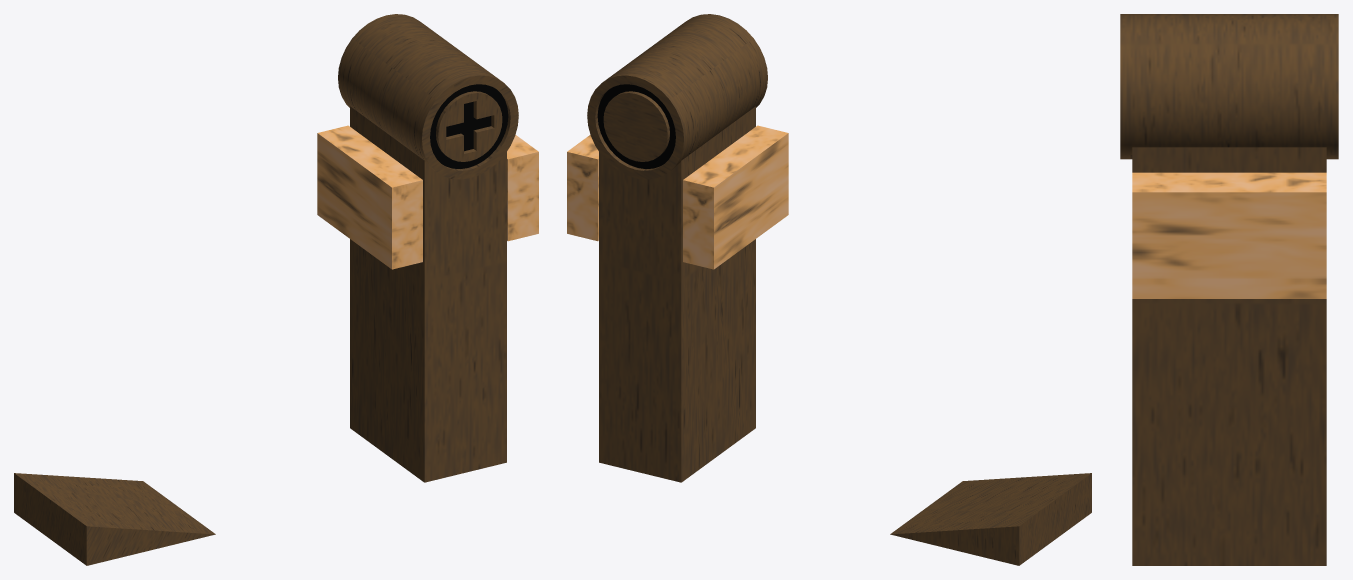
File: level4.fbx
3 renders of one model, left to right at view 1: azimuth 30°, elevation 25°; view 2: azimuth 150°, elevation 25°; view 3: azimuth 270°, elevation 25°, orthographic. The views are drawn at different scales.
Parts seen in each view (by area): view 1: LiftBlock, Pullable, Cube.003, Cube.001, Cube; view 2: LiftBlock, Pullable, Cube.003, Cube.001, Cube; view 3: LiftBlock, Pullable, Cube.
Part boxes in pixels (left/top/right/bottom): LiftBlock: left=350, top=106, right=506, bottom=482; Pullable: left=338, top=14, right=518, bottom=179; Cube.003: left=14, top=473, right=215, bottom=565; Cube.001: left=317, top=125, right=422, bottom=269; Cube: left=507, top=135, right=538, bottom=241; LiftBlock: left=599, top=106, right=755, bottom=482; Pullable: left=587, top=14, right=767, bottom=179; Cube.003: left=890, top=473, right=1091, bottom=565; Cube.001: left=683, top=125, right=788, bottom=269; Cube: left=567, top=135, right=598, bottom=241; LiftBlock: left=1132, top=147, right=1326, bottom=565; Pullable: left=1120, top=14, right=1338, bottom=159; Cube: left=1132, top=172, right=1326, bottom=298.
Bounding box in the file's own units: 1396 × 450 × 1186.
